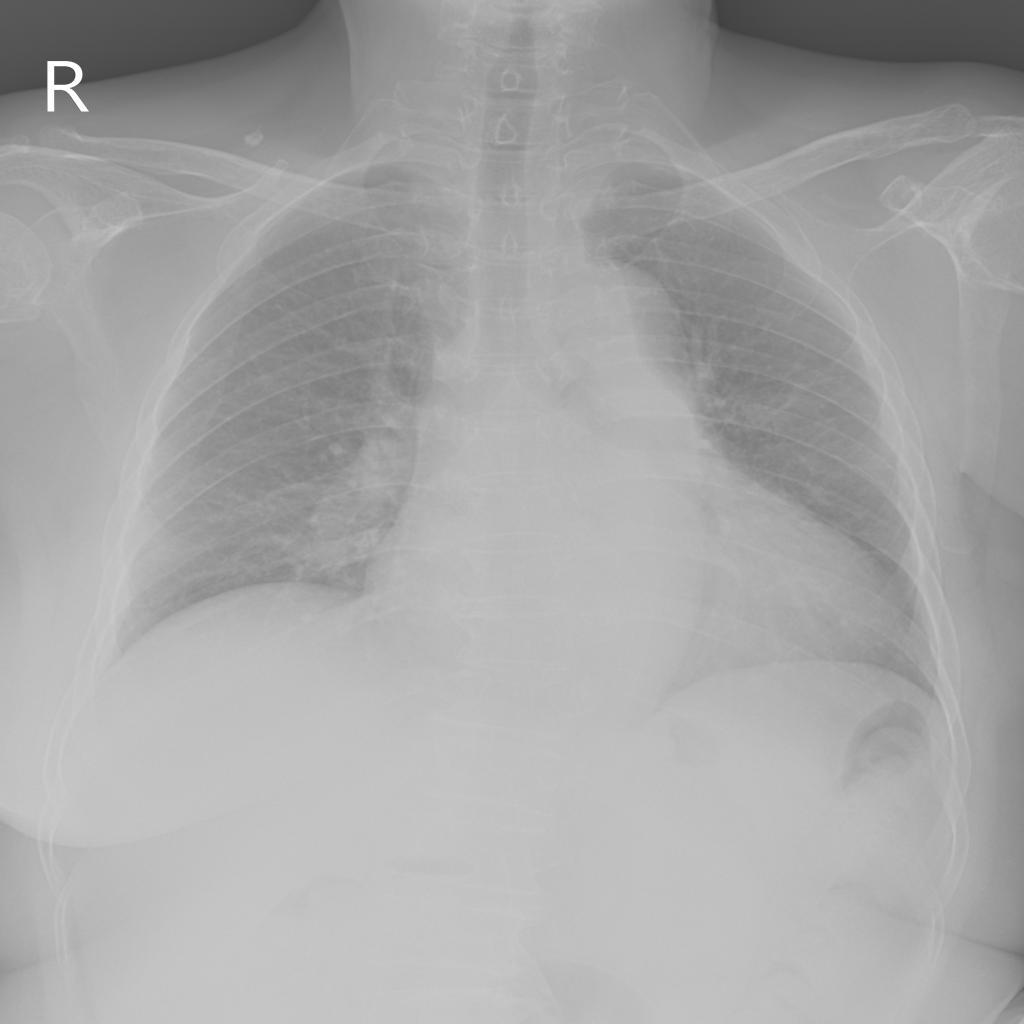Nodule: (242, 125, 266, 148)
